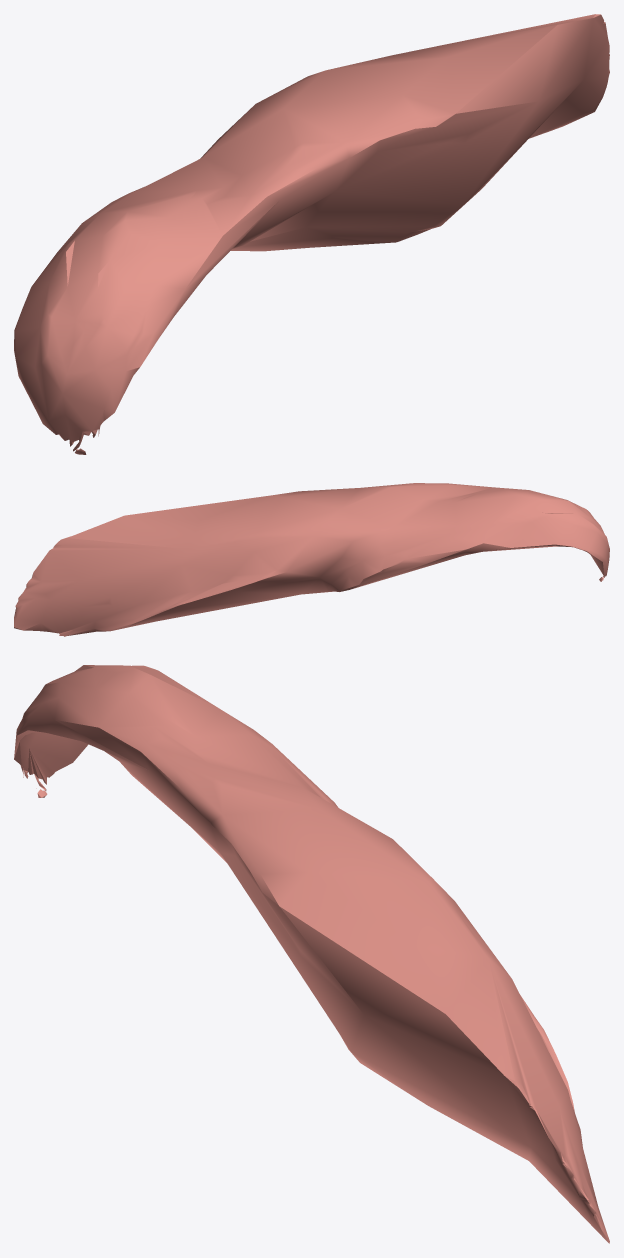
File: supraspinatus.glb
3 views of the same model, one above another, from view 1: azimuth 30°, elevation 25°; view 2: azimuth 150°, elevation 25°; view 3: azimuth 270°, elevation 25° (orthographic). The views are drawn at different scales.
Parts seen in each view (by area): view 1: right-supraspinatus; view 2: right-supraspinatus; view 3: right-supraspinatus.
Boxes of the visible parts, x1=… form: right-supraspinatus: x1=14, y1=14, x2=609, y2=454; right-supraspinatus: x1=14, y1=483, x2=609, y2=636; right-supraspinatus: x1=14, y1=665, x2=609, y2=1243.
Size of the model in its own units: 0.1246 by 0.035 by 0.0789.
